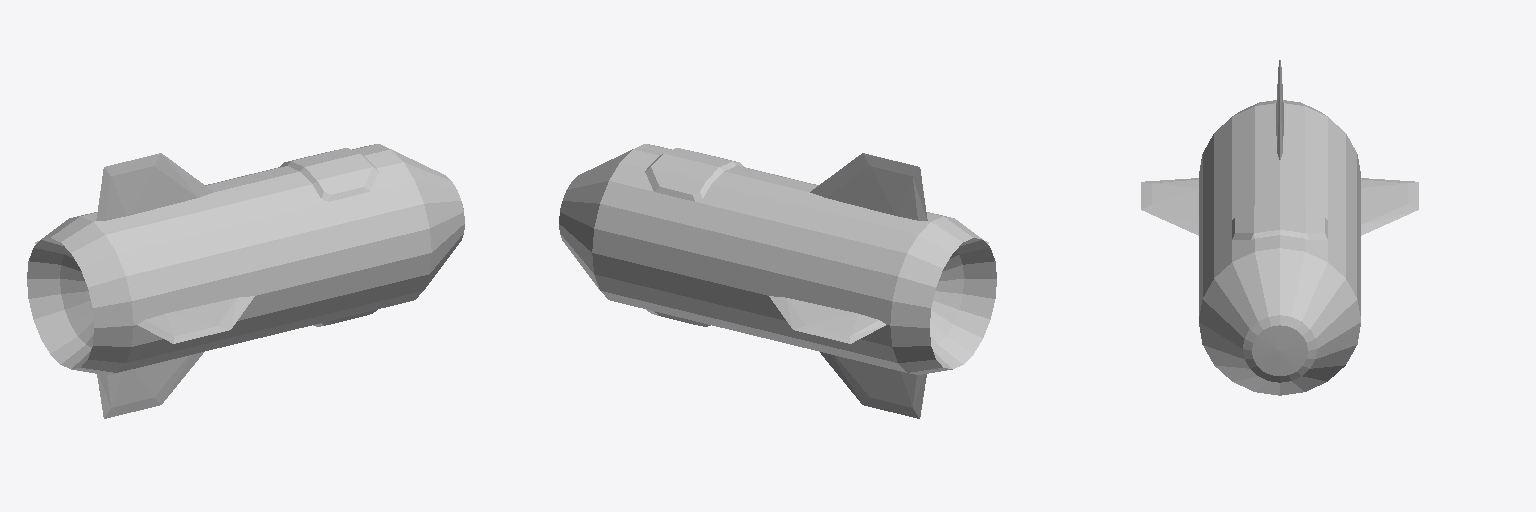
The model's file is missile.obj.
3 renders of one model, left to right at view 1: azimuth 30°, elevation 25°; view 2: azimuth 150°, elevation 25°; view 3: azimuth 270°, elevation 25°, orthographic.
Visible parts, largest first — view 1: M007_missile.mo_M007_missile.md; view 2: M007_missile.mo_M007_missile.md; view 3: M007_missile.mo_M007_missile.md.
Boxes of the visible parts, <box> form: M007_missile.mo_M007_missile.md: <box>27,144,464,418</box>; M007_missile.mo_M007_missile.md: <box>559,144,996,418</box>; M007_missile.mo_M007_missile.md: <box>1141,60,1418,395</box>.
Size of the model in its own units: 5.88 by 3.62 by 3.62.